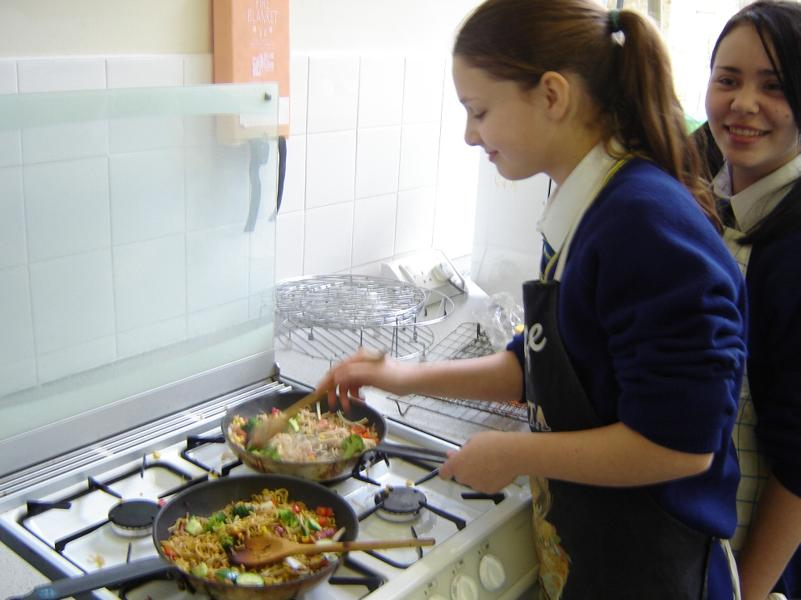person: (318, 5, 750, 600)
